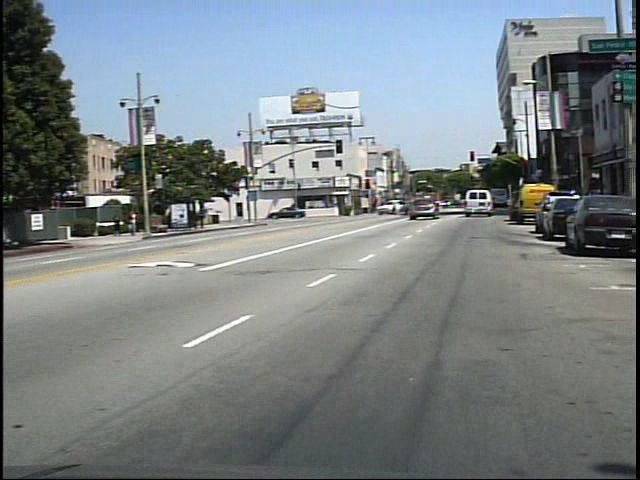person: (133, 208, 149, 239), (291, 194, 307, 222), (117, 212, 130, 239)
